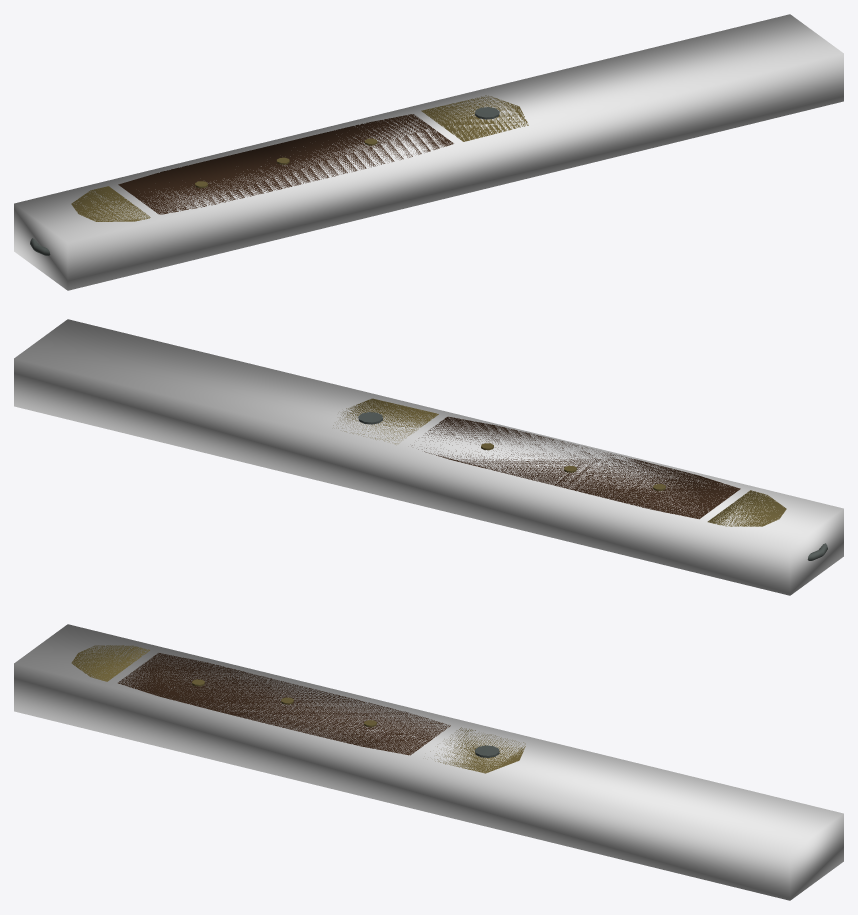
The model's file is navaja.glb.
The picture shows the model from 3 angles, top to bottom: view 1: azimuth 30°, elevation 25°; view 2: azimuth 150°, elevation 25°; view 3: azimuth 330°, elevation 25°; orthographic projection.
Parts seen in each view (by area): view 1: navaja-colcaja, mango; view 2: navaja-colcaja, mango; view 3: navaja-colcaja, mango.
Boxes of the visible parts, <box> form: navaja-colcaja: <box>14,14,843,290</box>; mango: <box>30,95,528,255</box>; navaja-colcaja: <box>14,319,843,595</box>; mango: <box>333,398,827,560</box>; navaja-colcaja: <box>14,624,843,900</box>; mango: <box>71,645,525,773</box>.
Size of the model in its own units: 0.2019 by 0.0128 by 0.024.
